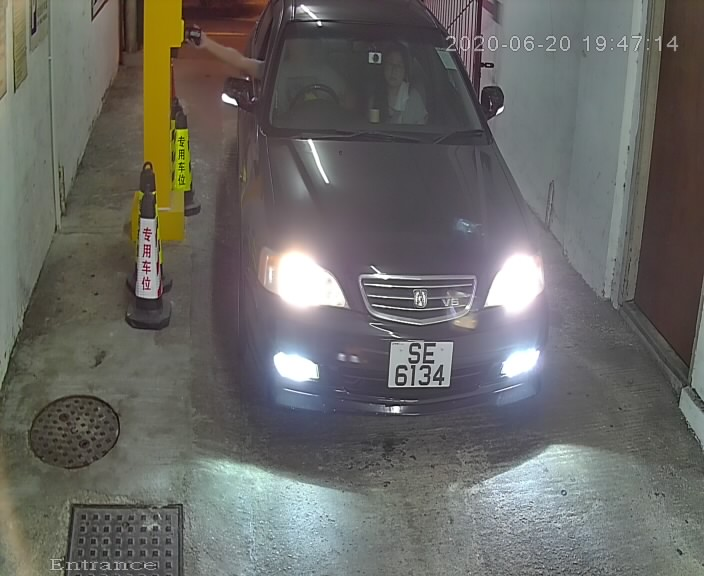privatecar: (199, 1, 571, 457)
